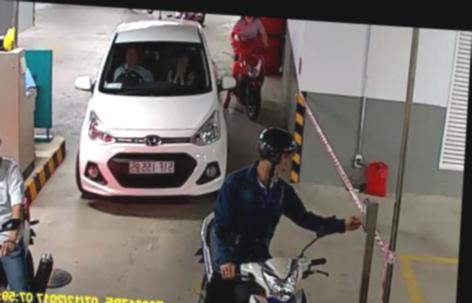License_Plate: (125, 153, 179, 179)
